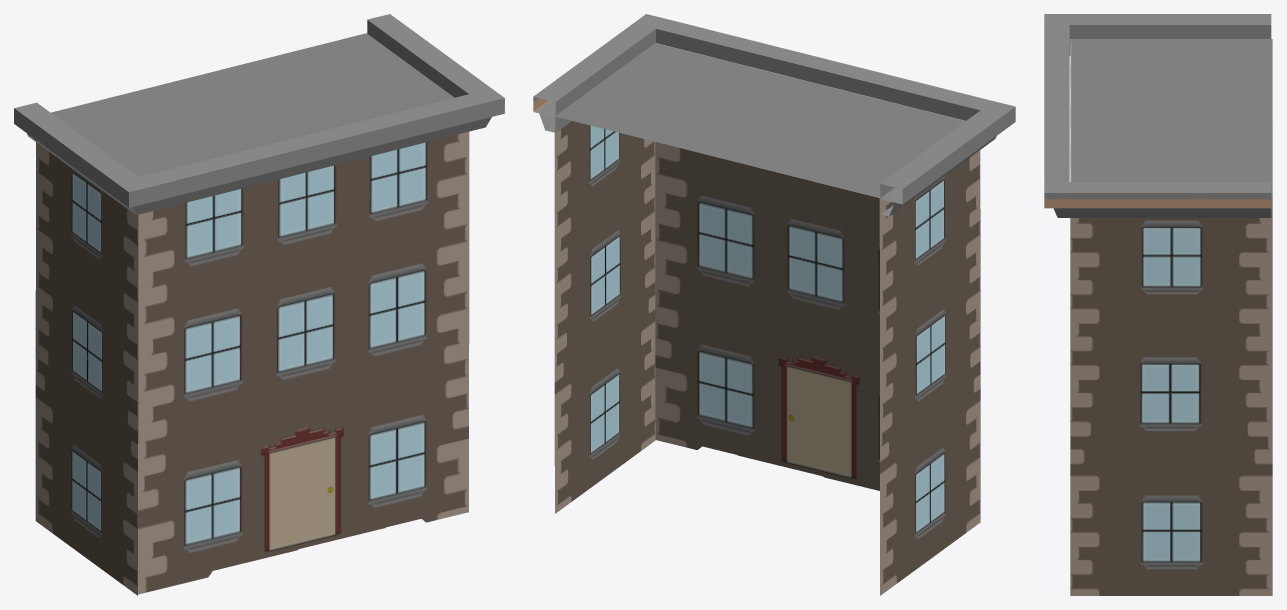
File: backgroun building 2.fbx
3 views of the same model, side by side, from view 1: azimuth 30°, elevation 25°; view 2: azimuth 150°, elevation 25°; view 3: azimuth 270°, elevation 25° (orthographic).
Visible parts, largest first — view 1: background house 1.001; view 2: background house 1.001; view 3: background house 1.001.
Boxes of the visible parts, bbox=[...] form: background house 1.001: bbox=[14, 14, 504, 595]; background house 1.001: bbox=[533, 14, 1015, 595]; background house 1.001: bbox=[1044, 14, 1272, 595].
Bounding box in the file's own units: 1696 × 1816 × 903.
4 materials, 4 textured.
